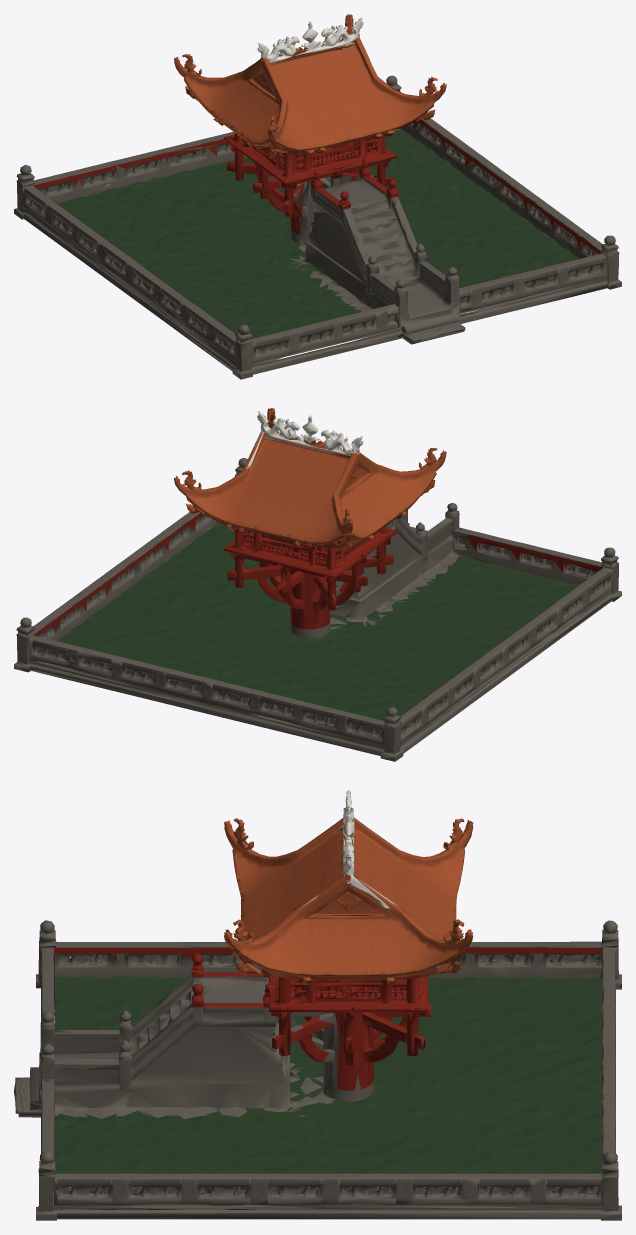
File: chua-mot-cot.glb
The picture shows the model from 3 angles, top to bottom: view 1: azimuth 30°, elevation 25°; view 2: azimuth 150°, elevation 25°; view 3: azimuth 270°, elevation 25°; orthographic projection. The views are drawn at different scales.
Visible parts, largest first — view 1: ChuaMotCot_Pond, ChuaMotCot_Marble, ChuaMotCot_Roof, ChuaMotCot_StairStone, ChuaMotCot_Wood, ChuaMotCot_PondFill, ChuaMotCot_Gold; view 2: ChuaMotCot_Pond, ChuaMotCot_Marble, ChuaMotCot_Roof, ChuaMotCot_Wood, ChuaMotCot_StairStone, ChuaMotCot_PondFill, ChuaMotCot_Gold; view 3: ChuaMotCot_Pond, ChuaMotCot_Marble, ChuaMotCot_Roof, ChuaMotCot_StairStone, ChuaMotCot_Wood, ChuaMotCot_PondFill, ChuaMotCot_Gold.
Part boxes in pixels (x1,y1,x2,y2): ChuaMotCot_Pond: (57, 129, 579, 338); ChuaMotCot_Marble: (14, 75, 621, 379); ChuaMotCot_Roof: (174, 14, 446, 157); ChuaMotCot_StairStone: (289, 175, 469, 344); ChuaMotCot_Wood: (33, 109, 601, 302); ChuaMotCot_PondFill: (190, 208, 448, 296); ChuaMotCot_Gold: (257, 17, 374, 70); ChuaMotCot_Pond: (57, 522, 579, 720); ChuaMotCot_Marble: (14, 458, 621, 761); ChuaMotCot_Roof: (174, 408, 446, 565); ChuaMotCot_Wood: (34, 500, 602, 713); ChuaMotCot_StairStone: (286, 503, 467, 626); ChuaMotCot_PondFill: (189, 575, 446, 678); ChuaMotCot_Gold: (247, 411, 363, 468); ChuaMotCot_Pond: (54, 975, 602, 1192); ChuaMotCot_Marble: (36, 920, 621, 1220); ChuaMotCot_Roof: (224, 817, 473, 984); ChuaMotCot_StairStone: (14, 974, 305, 1118); ChuaMotCot_Wood: (53, 903, 602, 1186); ChuaMotCot_PondFill: (202, 1039, 454, 1142); ChuaMotCot_Gold: (301, 790, 397, 908).
Bounding box in the file's own units: 1.79 × 0.9987 × 1.91.
